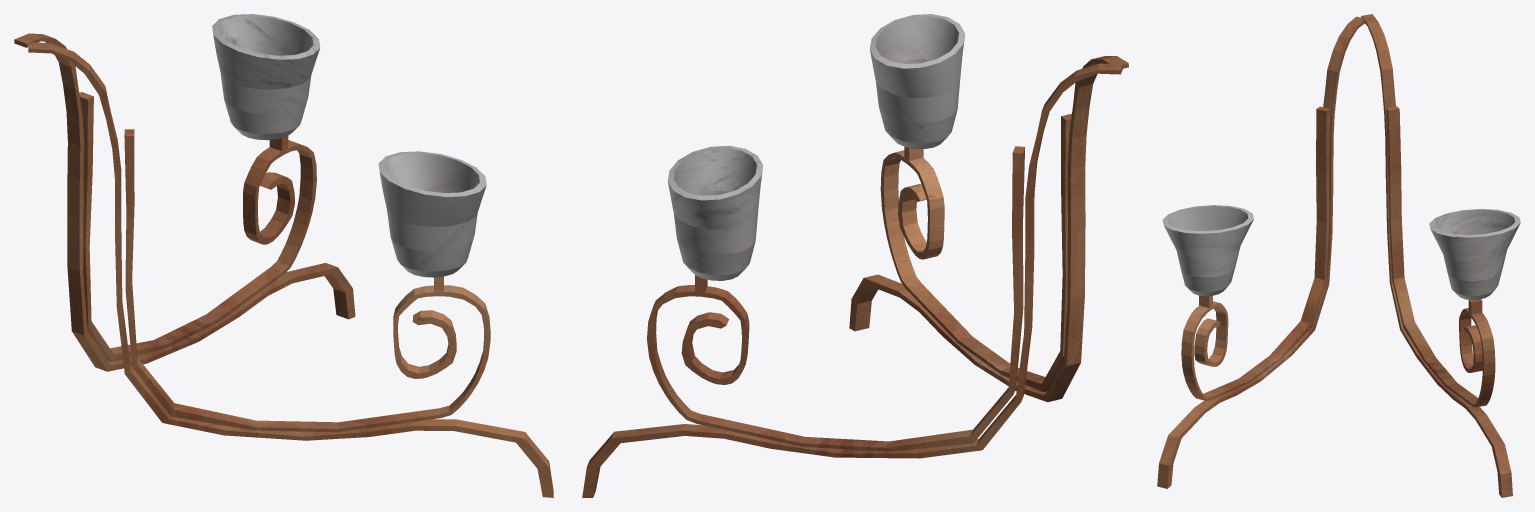
The model's file is Luces.FBX.
3 views of the same model, side by side, from view 1: azimuth 30°, elevation 25°; view 2: azimuth 150°, elevation 25°; view 3: azimuth 270°, elevation 25° (orthographic). The views are drawn at different scales.
Parts seen in each view (by area): view 1: Line005, Line008, Line002, Line006, Line003, Line007; view 2: Line002, Line005, Line008, Line006, Line007, Line003; view 3: Line006, Line002, Line008, Line005, Line007, Line003.
Boxes of the visible parts, x1,y1,x2,y2 form: Line005: (378, 151, 486, 277); Line008: (212, 14, 320, 140); Line002: (79, 92, 316, 362); Line006: (124, 129, 490, 432); Line003: (14, 33, 355, 371); Line007: (28, 42, 553, 497); Line002: (647, 146, 1025, 451); Line005: (869, 14, 965, 148); Line008: (667, 145, 762, 280); Line006: (880, 113, 1071, 392); Line007: (849, 56, 1128, 402); Line003: (582, 63, 1123, 497); Line006: (1181, 106, 1329, 400); Line002: (1386, 106, 1495, 407); Line008: (1429, 209, 1520, 300); Line005: (1162, 205, 1253, 296); Line007: (1157, 16, 1364, 488); Line003: (1361, 14, 1512, 497).
Size of the model in its own units: 201 by 201 by 200.
